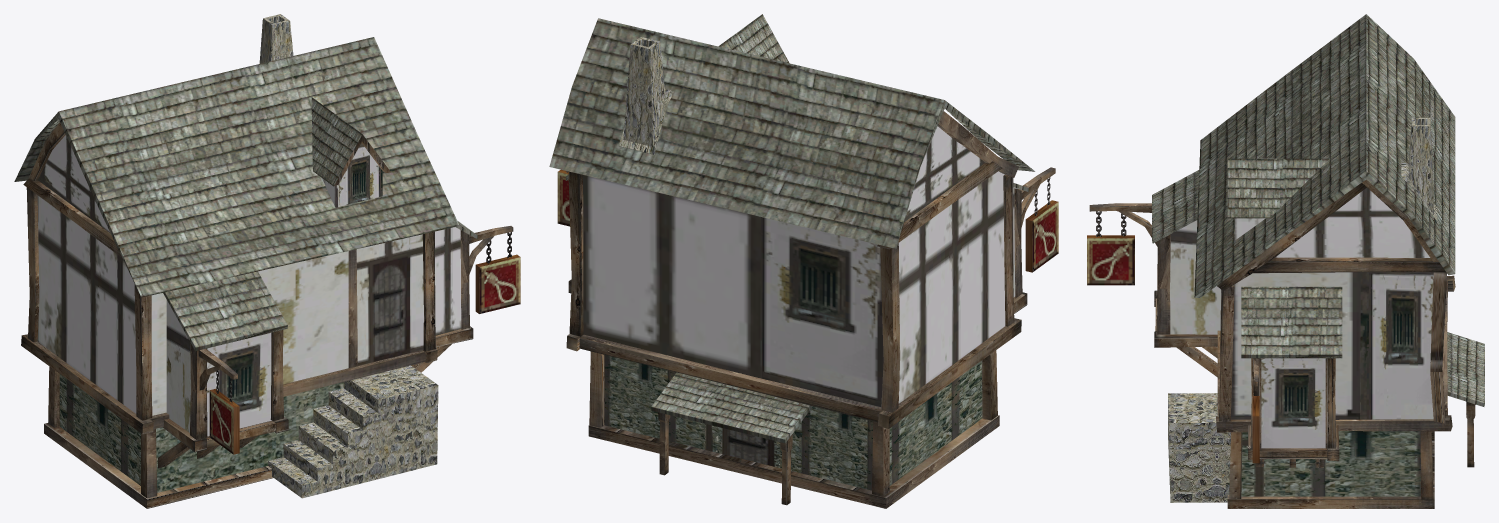
File: building_torturer_guild.glb
The picture shows the model from 3 angles, left to right: view 1: azimuth 30°, elevation 25°; view 2: azimuth 150°, elevation 25°; view 3: azimuth 270°, elevation 25°; orthographic projection. The views are drawn at different scales.
Parts seen in each view (by area): view 1: building_torturer_guild; view 2: building_torturer_guild; view 3: building_torturer_guild.
Boxes of the visible parts, x1,y1,x2,y2 form: building_torturer_guild: (14, 14, 520, 508); building_torturer_guild: (549, 14, 1058, 508); building_torturer_guild: (1087, 14, 1484, 508).
Bounding box in the file's own units: 10.87 × 9.32 × 9.21.
Materials: 7 (7 with a texture image).
